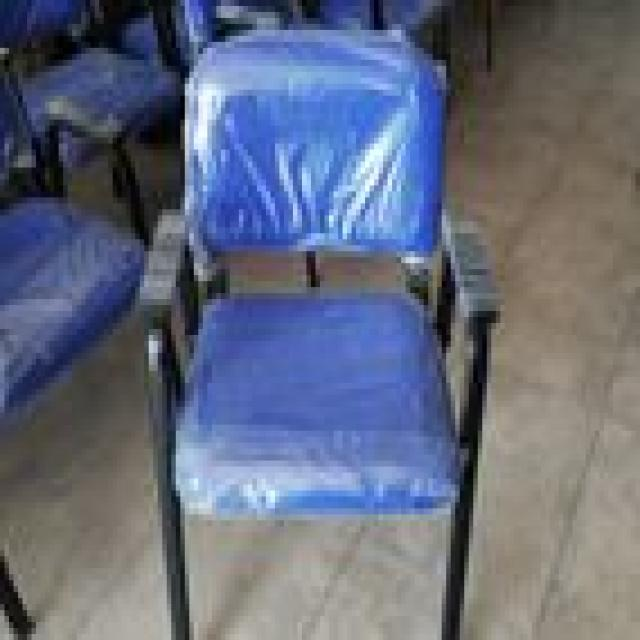others: (4, 6, 523, 640)
